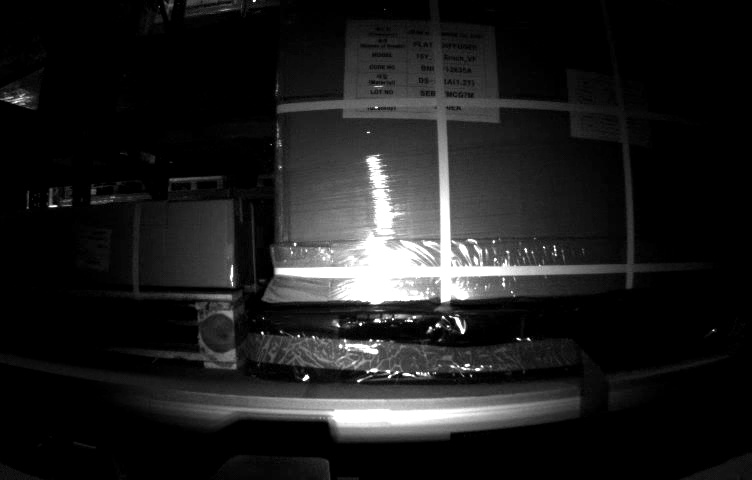True Barcode: (73, 230, 112, 270)
